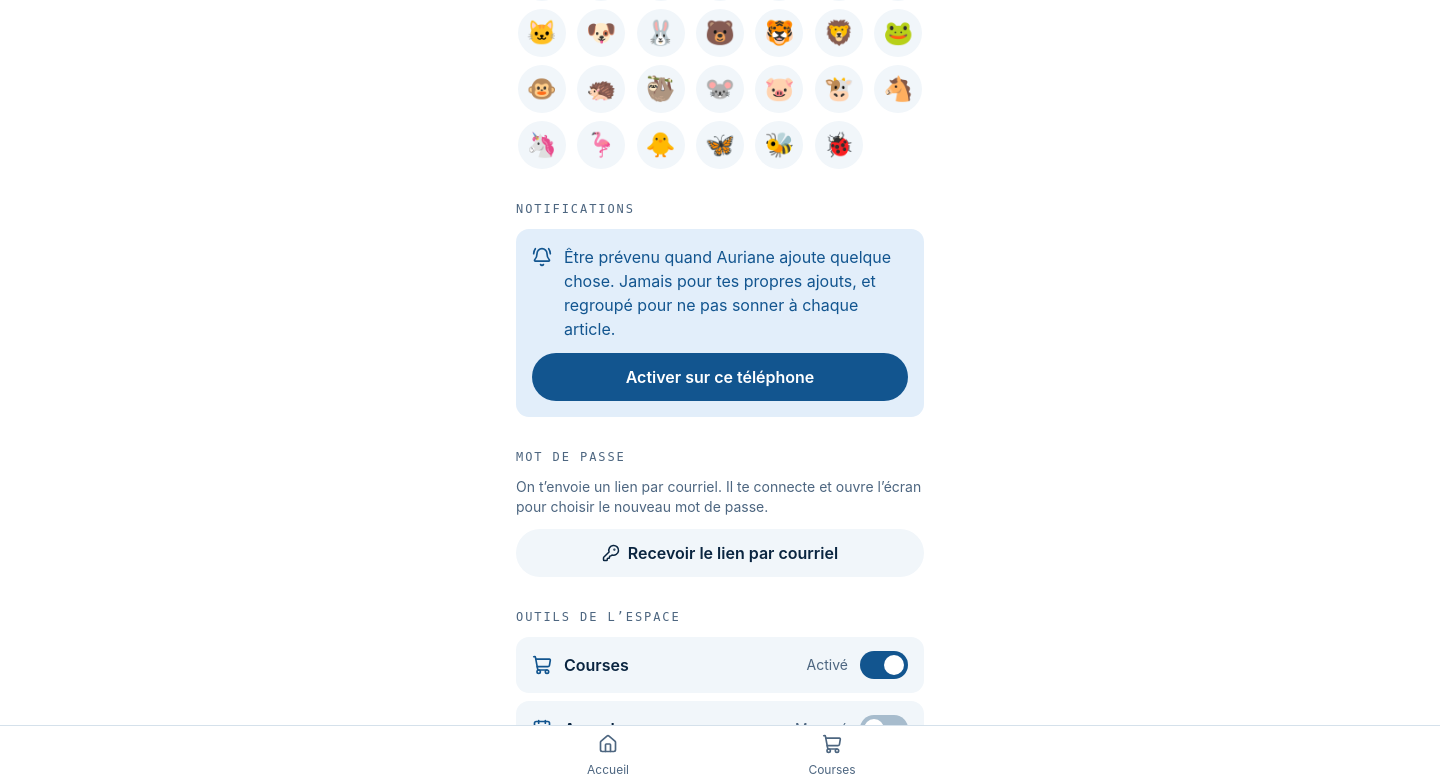
Test: les notifications › couper sur ce téléphone désabonne et retire l’appareil
The width and height of the screenshot is (1440, 782).
(page scrolled)
Click the button "Activer sur ce téléphone" at (720, 377), box [532,353,908,401]
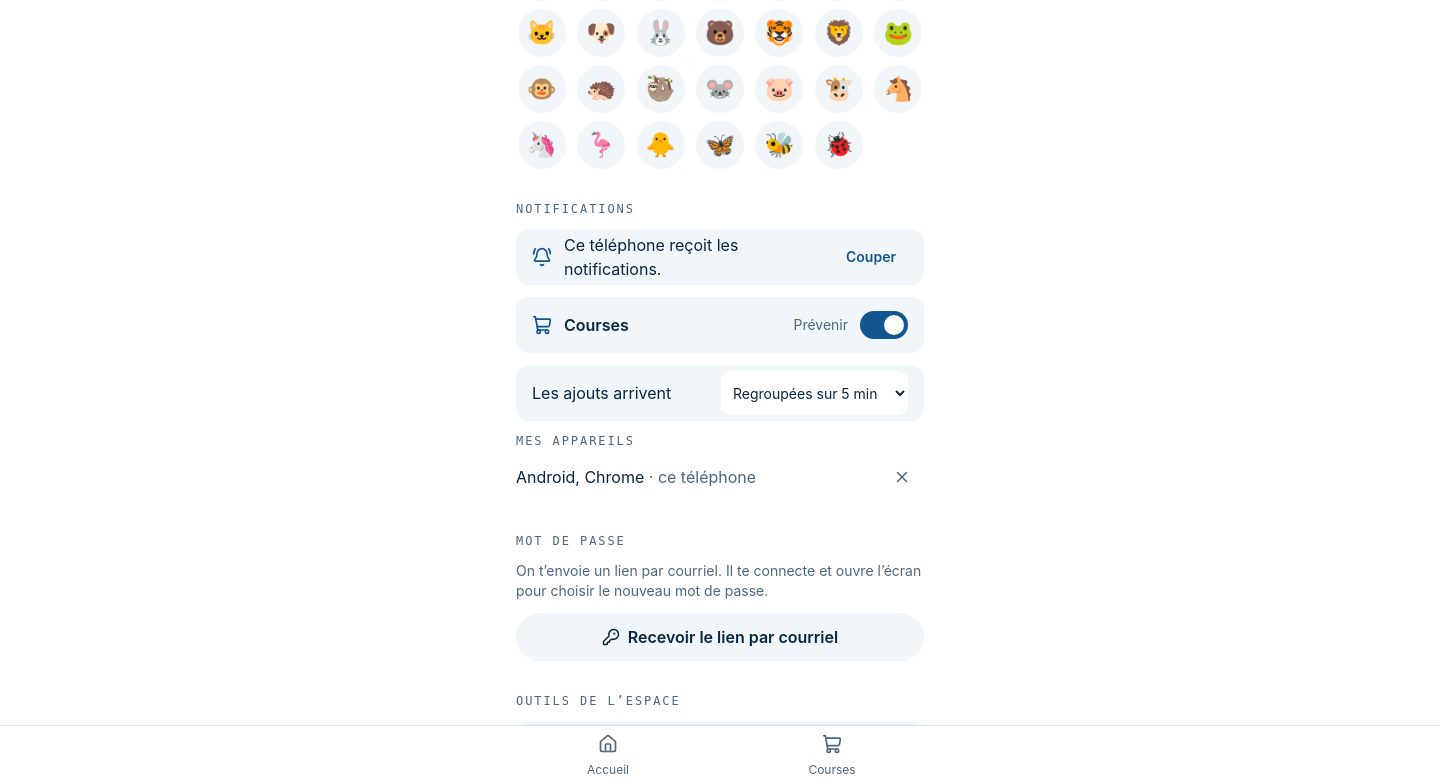
Click the button "Couper" at (871, 257), box [834,235,908,279]
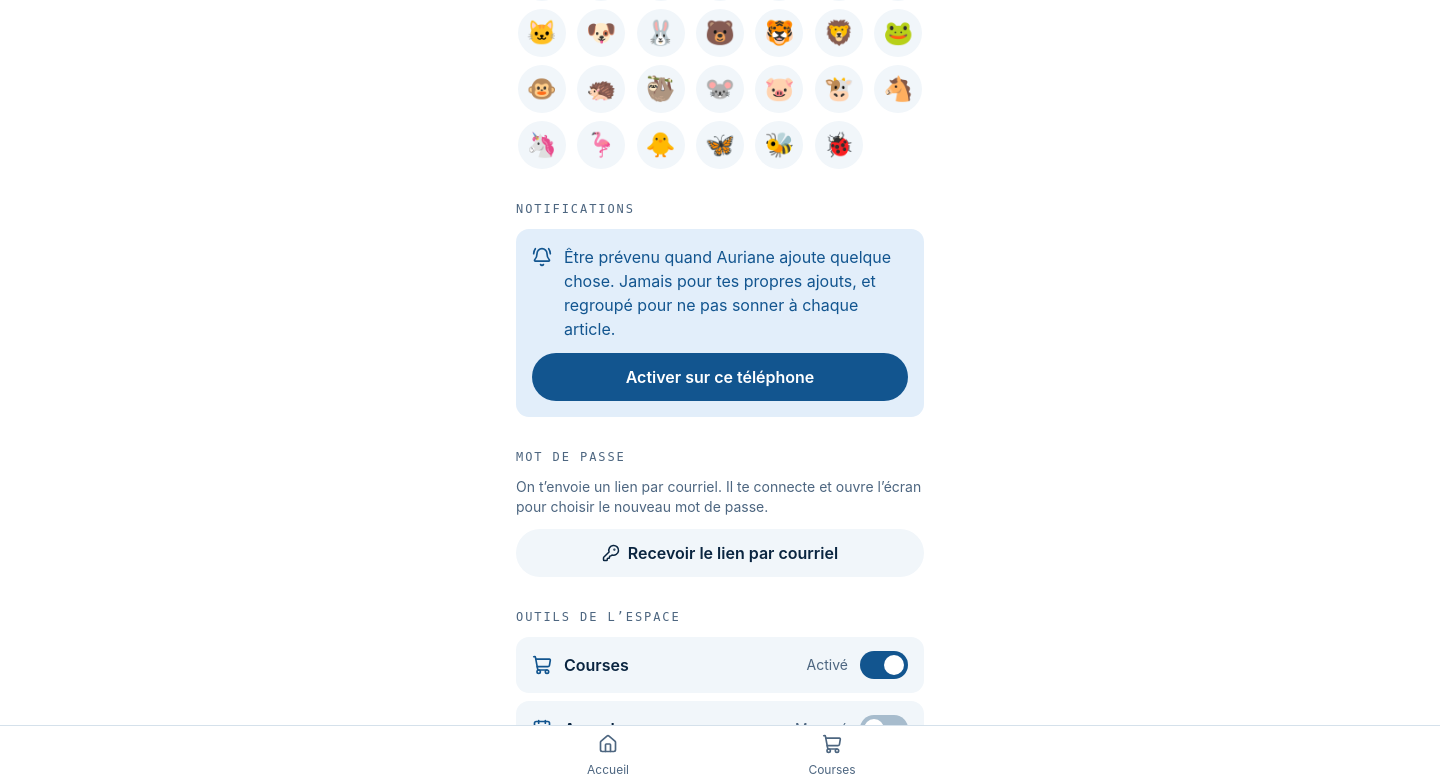
Expected: the button "Activer sur ce téléphone" is shown, [532,353,908,401]
